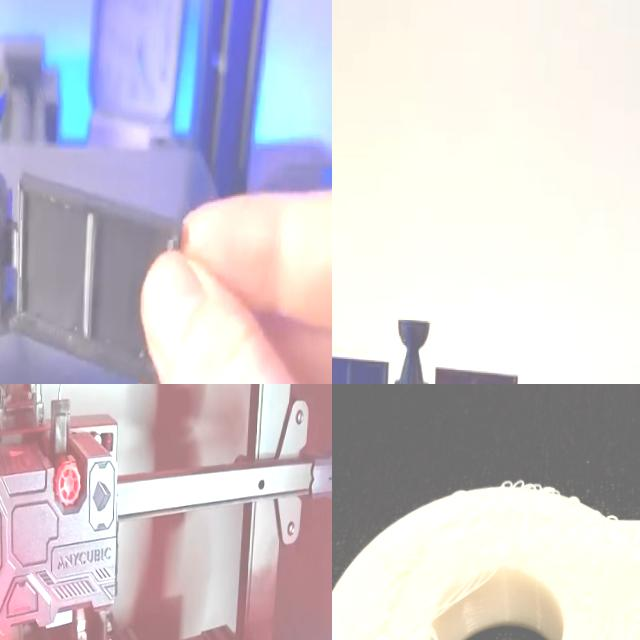spaghetti: (332, 468, 640, 640)
